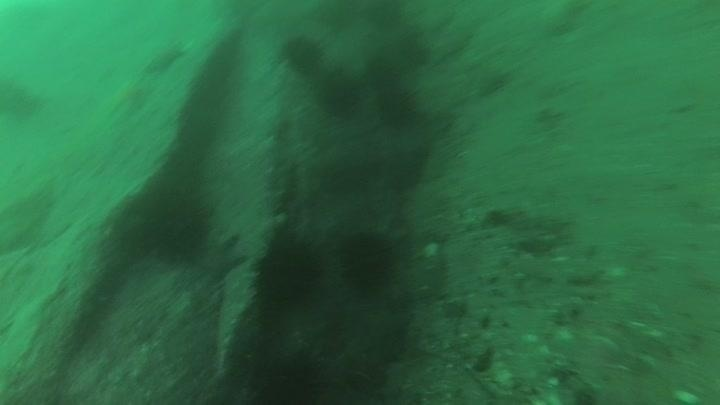echinus: (137, 185, 217, 263), (251, 231, 327, 309), (243, 348, 328, 405), (336, 228, 400, 295), (316, 68, 365, 119), (278, 32, 327, 76), (0, 74, 44, 123), (374, 84, 420, 130), (362, 53, 404, 91)
starfish: (192, 230, 245, 284)
